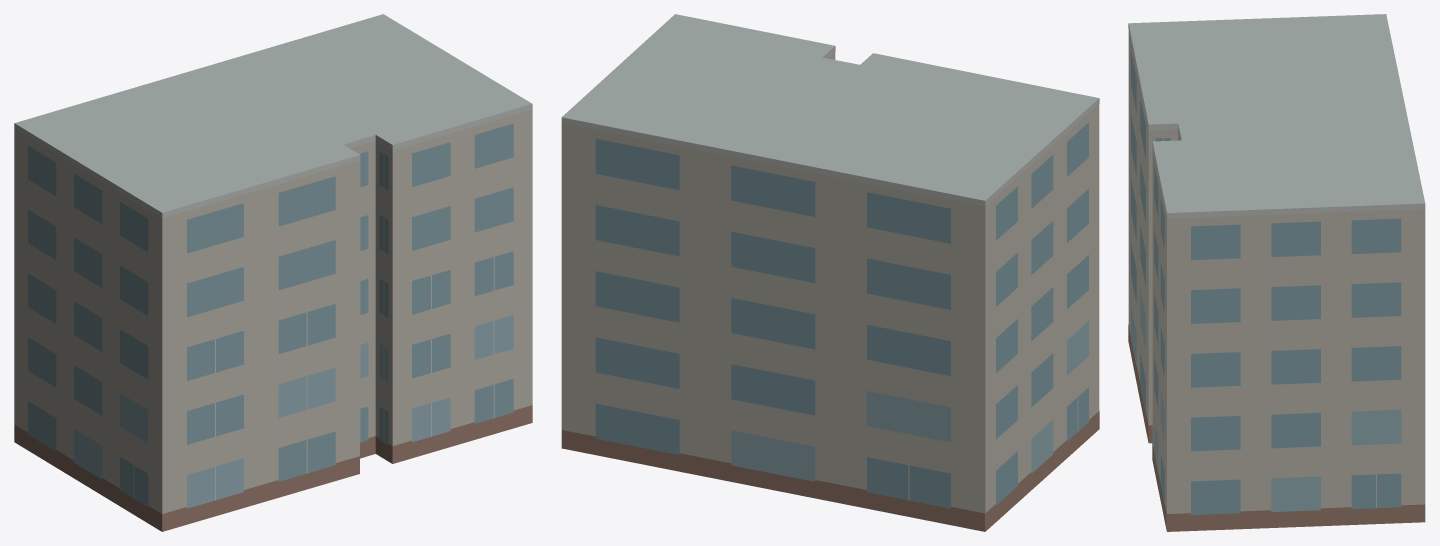
Rendered from survey-upis-32757709.glb.
3 renders of one model, left to right at view 1: azimuth 30°, elevation 25°; view 2: azimuth 150°, elevation 25°; view 3: azimuth 270°, elevation 25°, orthographic. The views are drawn at different scales.
Visible parts, largest first — view 1: survey-upis-32757709.tmp; view 2: survey-upis-32757709.tmp; view 3: survey-upis-32757709.tmp.
Boxes of the visible parts, x1,y1,x2,y2 form: survey-upis-32757709.tmp: [14, 14, 532, 531]; survey-upis-32757709.tmp: [561, 14, 1099, 531]; survey-upis-32757709.tmp: [1128, 14, 1425, 531].
Size of the model in its own units: 18.77 by 14 by 11.82.
